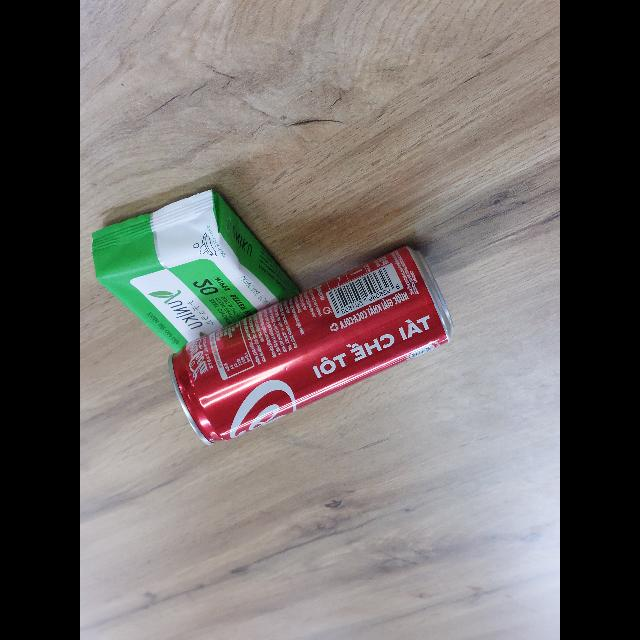coca_cola: (170, 243, 452, 444)
khan_giay: (91, 186, 298, 353)
